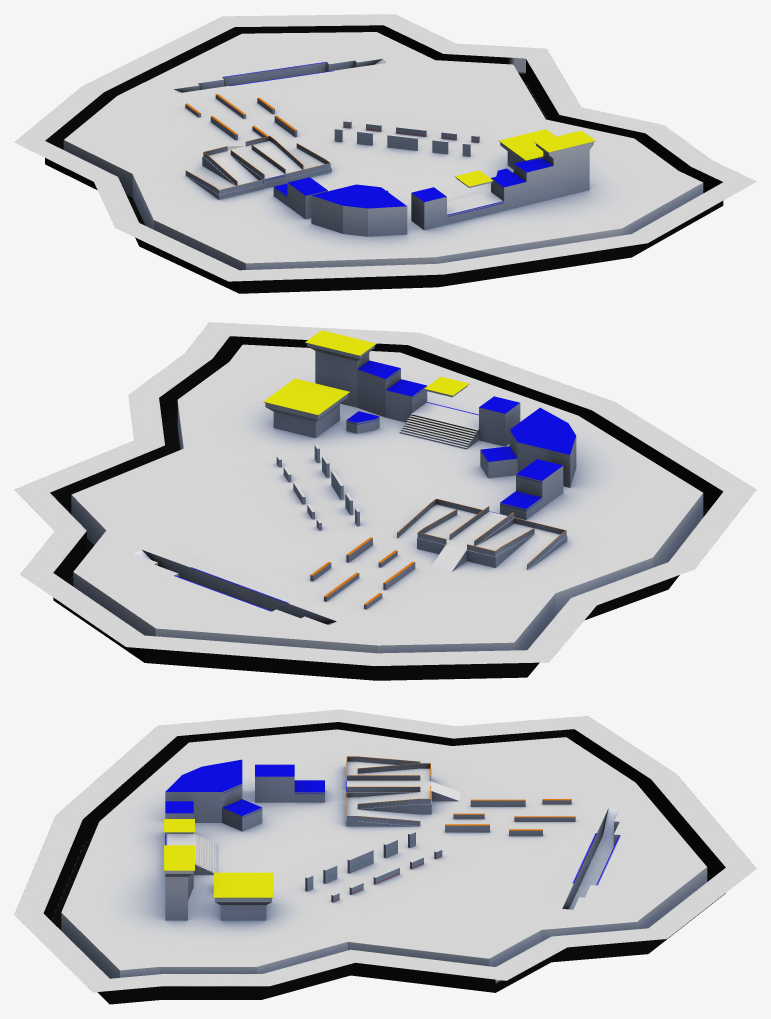
The model's file is hero_environment.glb.
3 renders of one model, top to bottom at view 1: azimuth 30°, elevation 25°; view 2: azimuth 150°, elevation 25°; view 3: azimuth 270°, elevation 25°, orthographic. The views are drawn at different scales.
Parts seen in each view (by area): view 1: HeroArenaMesh_0; view 2: HeroArenaMesh_0; view 3: HeroArenaMesh_0.
Boxes of the visible parts, x1,y1,x2,y2 form: HeroArenaMesh_0: (14,14,756,293); HeroArenaMesh_0: (14,322,756,680); HeroArenaMesh_0: (14,709,756,1004).
Bounding box in the file's own units: 118 × 15.25 × 130.
1 material, 1 textured.
